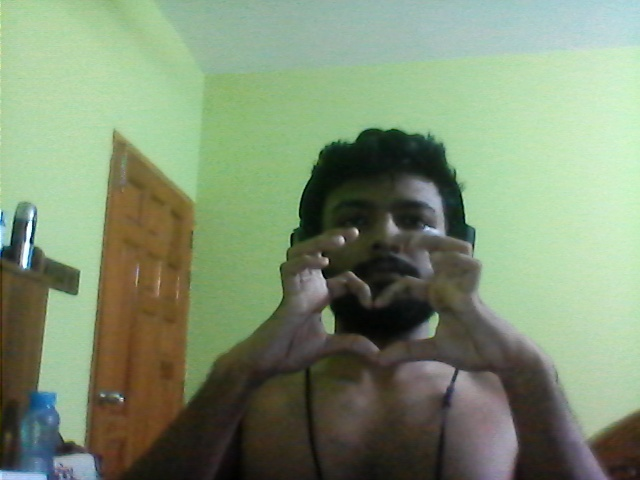Love: (214, 226, 518, 372)
